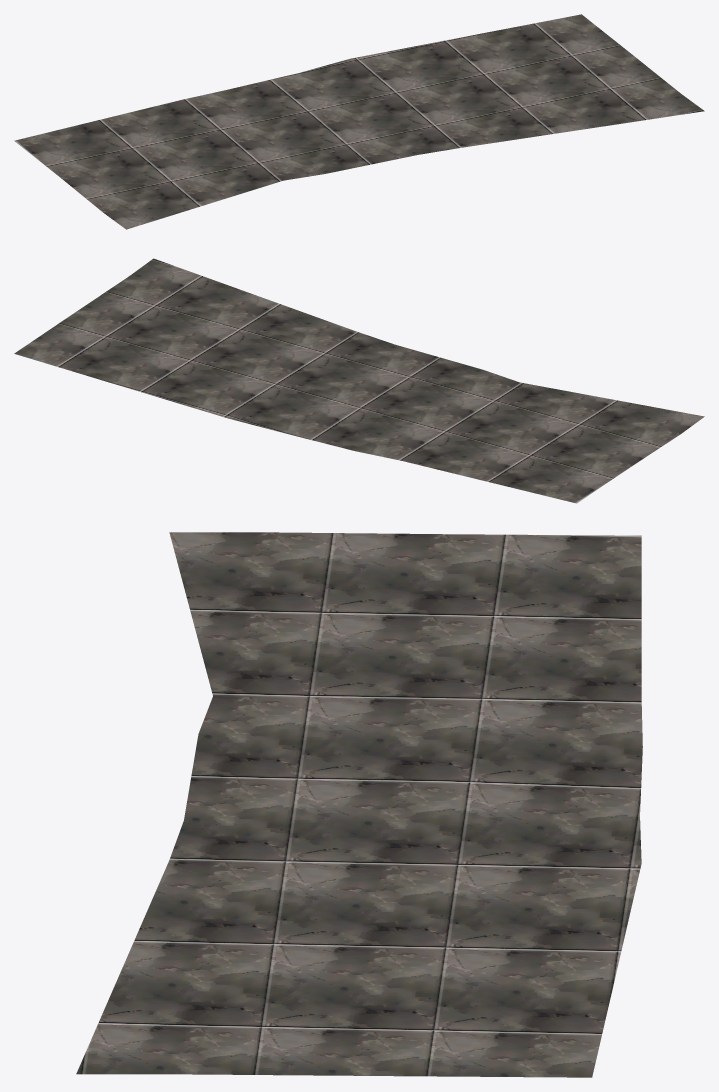
File: CH09_SMAUG_PLAYSURFACE_LAIR131.fbx
3 views of the same model, one above another, from view 1: azimuth 30°, elevation 25°; view 2: azimuth 150°, elevation 25°; view 3: azimuth 270°, elevation 25° (orthographic). The views are drawn at different scales.
Parts seen in each view (by area): view 1: CH09_SMAUG_PLAYSURFACE_LAIR131; view 2: CH09_SMAUG_PLAYSURFACE_LAIR131; view 3: CH09_SMAUG_PLAYSURFACE_LAIR131.
Boxes of the visible parts, box(x1,y1,x2,y2) form: CH09_SMAUG_PLAYSURFACE_LAIR131: box(14, 14, 704, 229); CH09_SMAUG_PLAYSURFACE_LAIR131: box(14, 258, 704, 503); CH09_SMAUG_PLAYSURFACE_LAIR131: box(76, 532, 642, 1077).
Bounding box in the file's own units: 131804 × 302 × 57653.
Materials: 1 (1 with a texture image).
